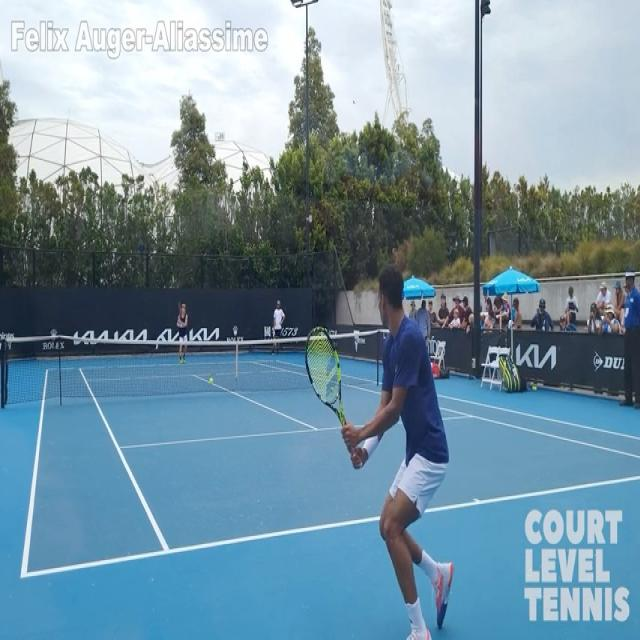backhand-ready: (300, 248, 466, 640)
